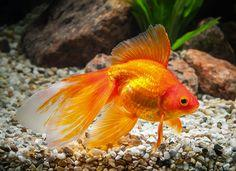goldfish: (87, 45, 210, 142)
